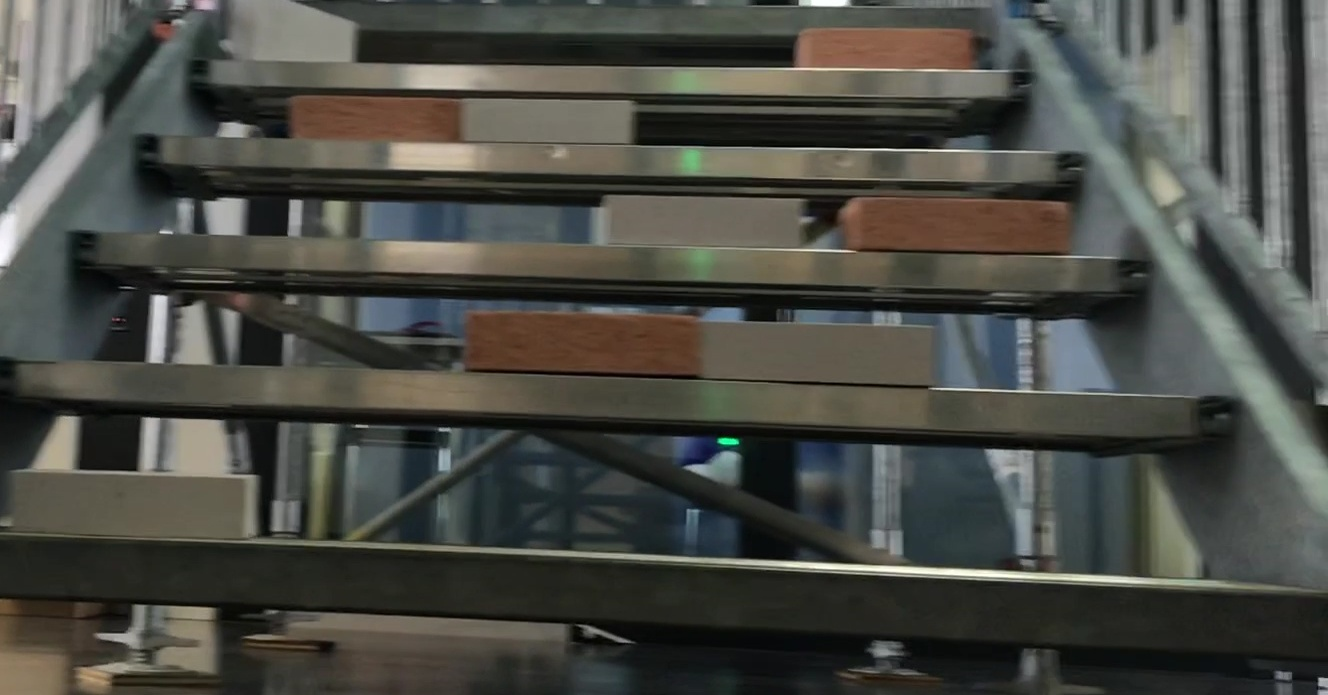brick: (13, 471, 257, 538), (705, 321, 933, 386), (468, 313, 695, 377), (845, 198, 1066, 254), (607, 194, 802, 245), (288, 96, 458, 144), (235, 0, 352, 62), (464, 100, 630, 143), (793, 28, 970, 68)
edge: (1, 537, 1327, 654), (2, 357, 1240, 438), (71, 228, 1156, 299), (133, 135, 1091, 186), (189, 55, 1037, 97), (225, 4, 996, 35)
